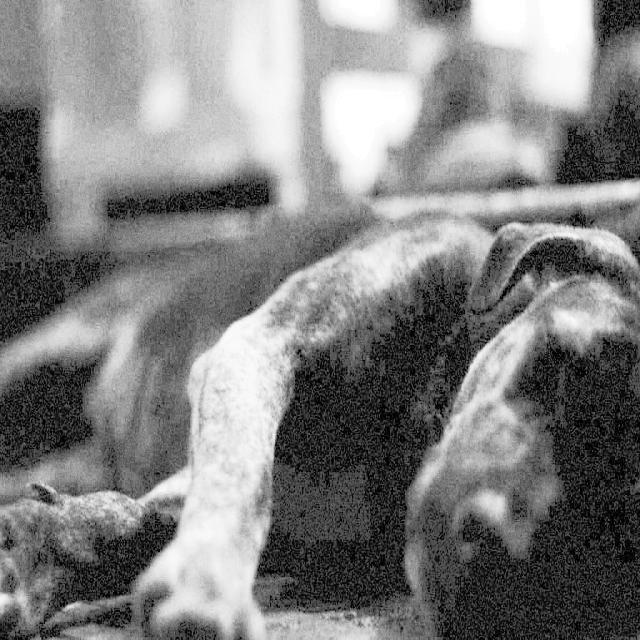Dog: (19, 182, 640, 640)
